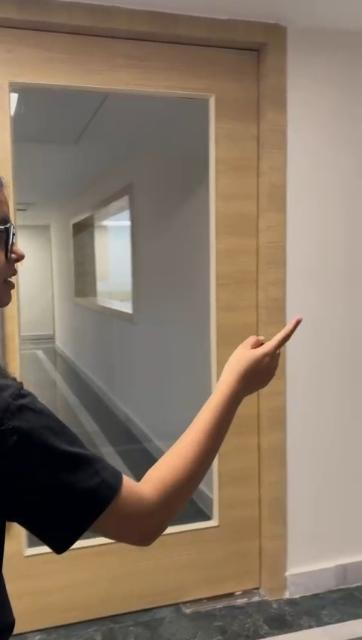floor: (144, 613, 358, 635)
moving-obj: (0, 166, 308, 640)
